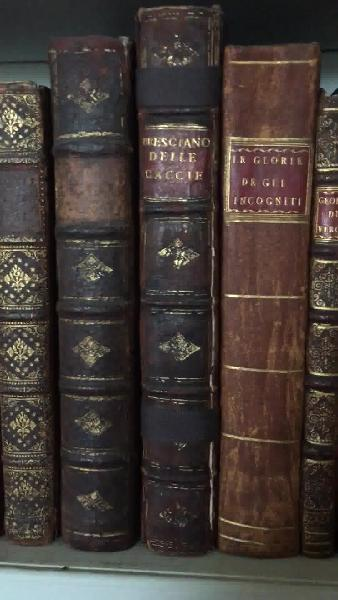Aa6-30: (1, 83, 60, 541)
Aa6-31: (40, 41, 147, 558)
Aa6-32: (128, 6, 227, 561)
Aa6-33: (213, 41, 303, 560)
